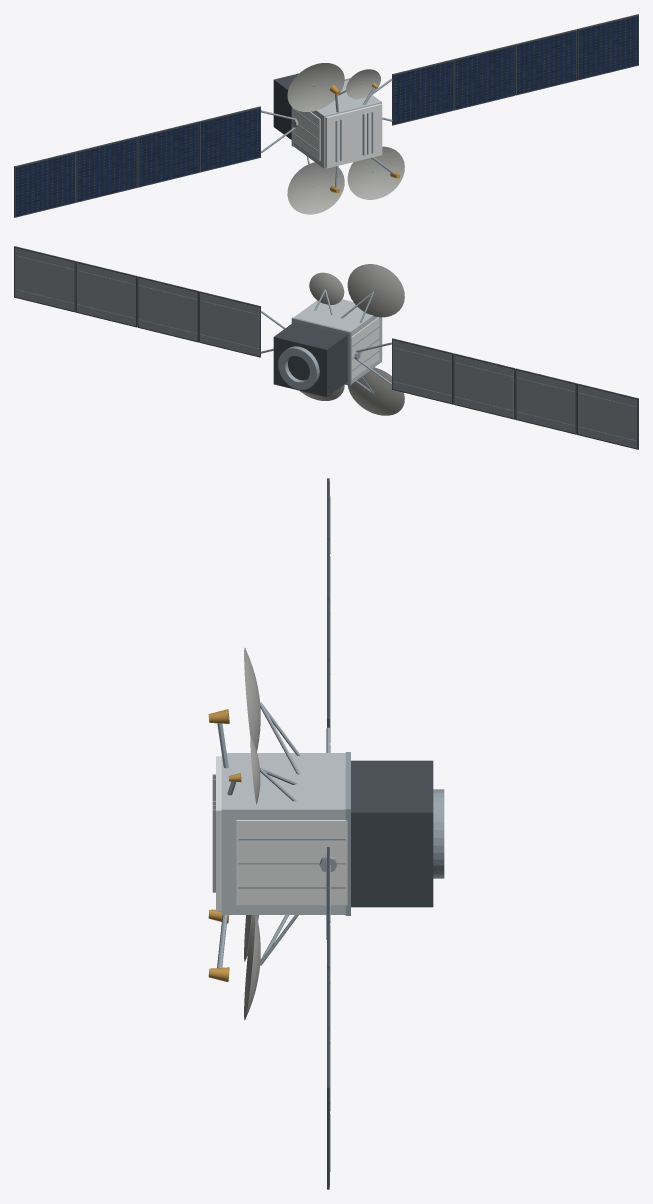
Rendered from a2100ax-multi-shell.glb.
The picture shows the model from 3 angles, top to bottom: view 1: azimuth 30°, elevation 25°; view 2: azimuth 150°, elevation 25°; view 3: azimuth 270°, elevation 25°; orthographic projection. The views are drawn at different scales.
Visible parts, largest first — view 1: Solar cell panel (×8), Communications reflector (×4), Solar panel frame (×8), Earth-facing deck, Payload module, Radiator face, Service module; view 2: Rear array substrate (×8), Communications reflector (×3), Service module, Solar panel frame (×8), Payload module, Radiator face, Launch adapter ring, Module interface; view 3: Service module, Payload module, Radiator face, Communications reflector (×2), Launch adapter ring.
Part boxes in pixels (<box>): Solar cell panel (×8): <box>15,16,638,216</box>; Communications reflector (×4): <box>287,63,404,214</box>; Solar panel frame (×8): <box>14,14,638,217</box>; Earth-facing deck: <box>325,103,382,168</box>; Payload module: <box>293,80,381,168</box>; Radiator face: <box>291,107,320,160</box>; Service module: <box>273,73,298,139</box>; Rear array substrate (×8): <box>15,248,637,448</box>; Communications reflector (×3): <box>309,264,404,415</box>; Service module: <box>273,322,347,397</box>; Solar panel frame (×8): <box>14,246,638,449</box>; Payload module: <box>294,299,381,383</box>; Radiator face: <box>351,317,379,379</box>; Launch adapter ring: <box>278,346,319,389</box>; Module interface: <box>291,317,351,385</box>; Service module: <box>351,760,433,907</box>; Payload module: <box>221,753,345,914</box>; Radiator face: <box>236,820,347,905</box>; Communications reflector (×2): <box>244,647,260,1020</box>; Launch adapter ring: <box>433,789,444,878</box>.
Size of the model in its own units: 26.97 by 6.19 by 4.41.
8 materials, 1 textured.
